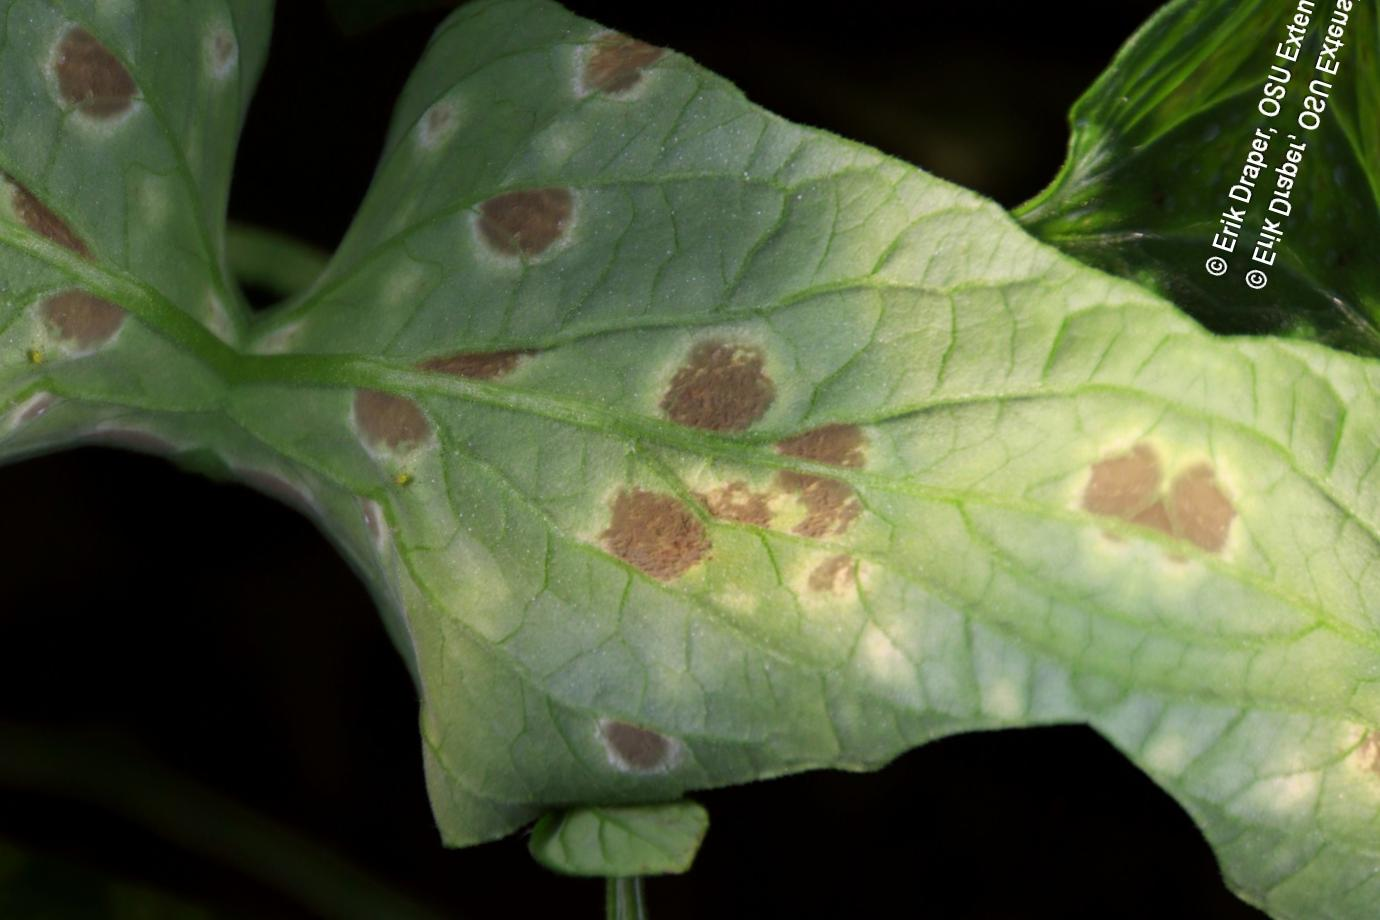Tomato mold leaf: (145, 0, 1243, 920)
